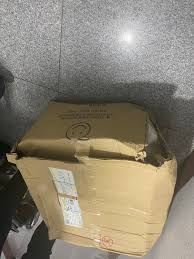damaged package: (75, 105, 176, 171), (12, 146, 83, 166)
